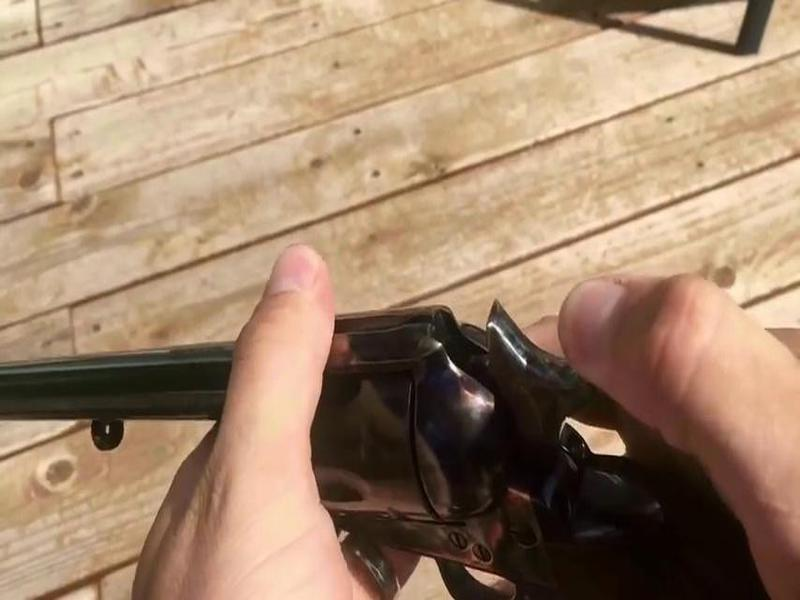Revolver: (8, 317, 713, 564)
